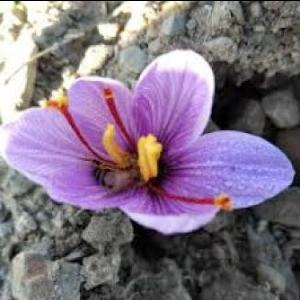Saffron: (2, 47, 296, 230)
